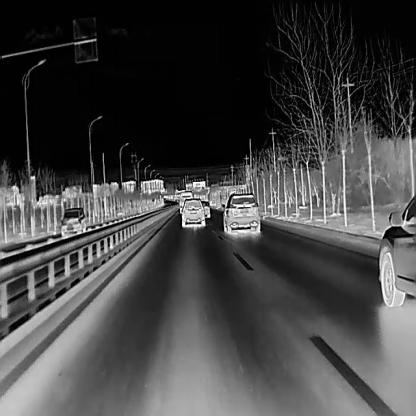bus: (178, 189, 193, 212)
car: (376, 190, 416, 306), (221, 191, 260, 232), (60, 205, 86, 239), (178, 196, 205, 226), (199, 200, 209, 217)
